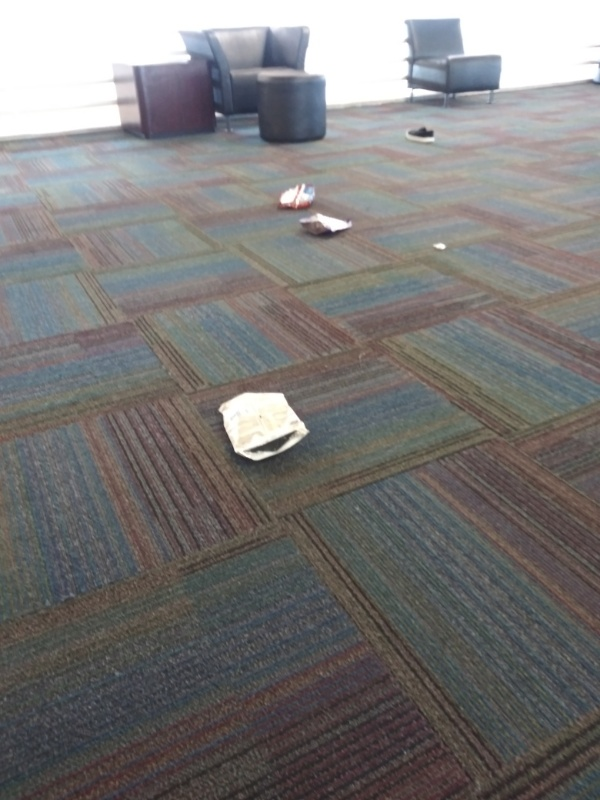bag: (209, 387, 314, 467), (291, 209, 358, 240), (271, 180, 325, 214)
